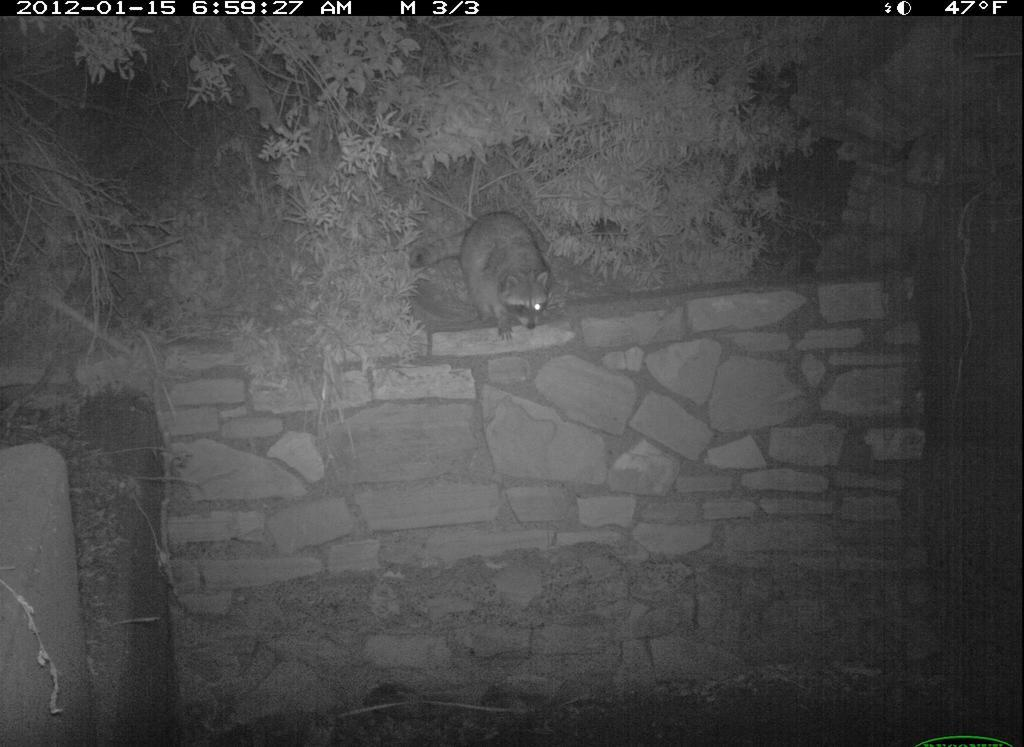raccoon: (433, 194, 564, 344)
